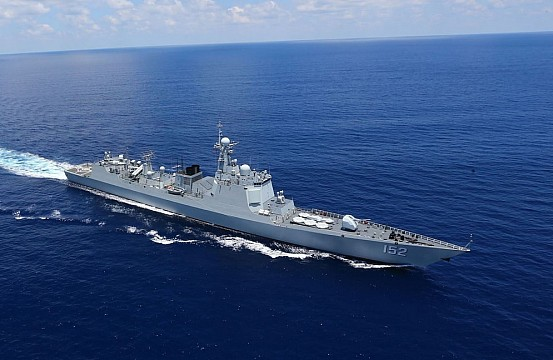ship: (69, 144, 479, 277)
